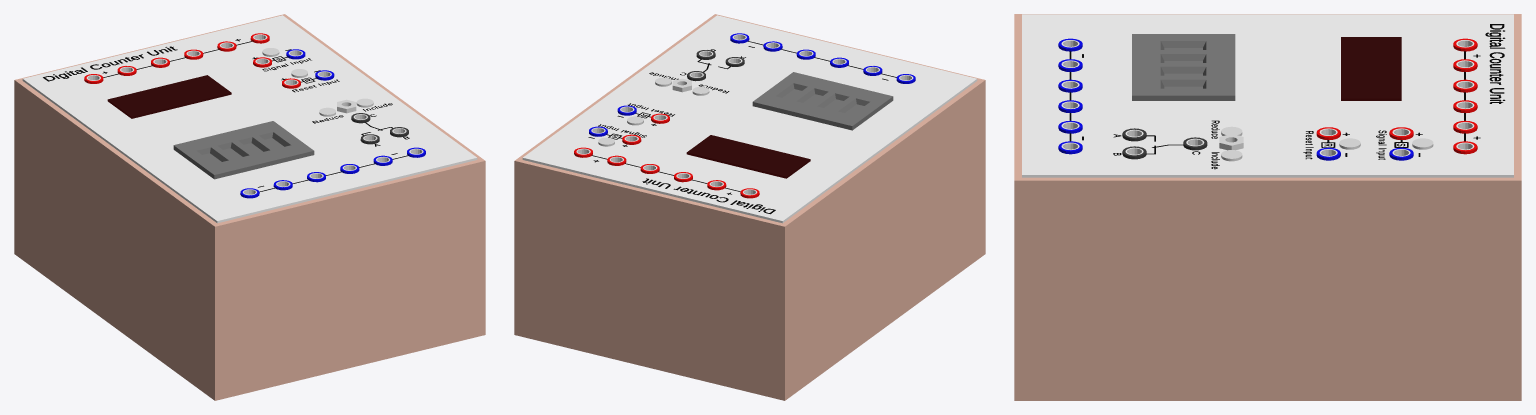
The model's file is counter-unit.glb.
3 views of the same model, side by side, from view 1: azimuth 30°, elevation 25°; view 2: azimuth 150°, elevation 25°; view 3: azimuth 270°, elevation 25° (orthographic). The views are drawn at different scales.
Visible parts, largest first — view 1: Digital-Counter-Unit_OP__go1045__mesh0, Digital-Counter-Unit_OP__go1045__mesh8, Digital-Counter-Unit_OP__go1045__mesh6, Digital-Counter-Unit_OP__go1045__mesh5, Digital-Counter-Unit_OP__go1045__mesh1, Digital-Counter-Unit_OP__go1045__mesh3, Digital-Counter-Unit_OP__go1045__mesh7, Digital-Counter-Unit_OP__go1045__mesh4, Digital-Counter-Unit_OP__go1045__mesh2; view 2: Digital-Counter-Unit_OP__go1045__mesh0, Digital-Counter-Unit_OP__go1045__mesh8, Digital-Counter-Unit_OP__go1045__mesh6, Digital-Counter-Unit_OP__go1045__mesh5, Digital-Counter-Unit_OP__go1045__mesh1, Digital-Counter-Unit_OP__go1045__mesh3, Digital-Counter-Unit_OP__go1045__mesh7, Digital-Counter-Unit_OP__go1045__mesh4, Digital-Counter-Unit_OP__go1045__mesh2; view 3: Digital-Counter-Unit_OP__go1045__mesh0, Digital-Counter-Unit_OP__go1045__mesh8, Digital-Counter-Unit_OP__go1045__mesh6, Digital-Counter-Unit_OP__go1045__mesh5, Digital-Counter-Unit_OP__go1045__mesh1, Digital-Counter-Unit_OP__go1045__mesh3, Digital-Counter-Unit_OP__go1045__mesh7, Digital-Counter-Unit_OP__go1045__mesh4, Digital-Counter-Unit_OP__go1045__mesh2.
Part boxes in pixels (x1,y1,x2,y2): Digital-Counter-Unit_OP__go1045__mesh0: (14,14,485,400); Digital-Counter-Unit_OP__go1045__mesh8: (22,15,477,223); Digital-Counter-Unit_OP__go1045__mesh6: (173,121,314,179); Digital-Counter-Unit_OP__go1045__mesh5: (107,75,231,118); Digital-Counter-Unit_OP__go1045__mesh1: (240,49,425,198); Digital-Counter-Unit_OP__go1045__mesh3: (84,33,300,88); Digital-Counter-Unit_OP__go1045__mesh7: (43,39,409,191); Digital-Counter-Unit_OP__go1045__mesh4: (262,48,373,116); Digital-Counter-Unit_OP__go1045__mesh2: (351,113,408,144); Digital-Counter-Unit_OP__go1045__mesh0: (514,14,985,400); Digital-Counter-Unit_OP__go1045__mesh8: (522,15,977,223); Digital-Counter-Unit_OP__go1045__mesh6: (752,72,893,130); Digital-Counter-Unit_OP__go1045__mesh5: (686,135,810,178); Digital-Counter-Unit_OP__go1045__mesh1: (589,33,915,136); Digital-Counter-Unit_OP__go1045__mesh3: (574,113,759,198); Digital-Counter-Unit_OP__go1045__mesh7: (588,41,896,214); Digital-Counter-Unit_OP__go1045__mesh4: (598,77,709,146); Digital-Counter-Unit_OP__go1045__mesh2: (687,50,744,81); Digital-Counter-Unit_OP__go1045__mesh0: (1014,14,1521,400); Digital-Counter-Unit_OP__go1045__mesh8: (1022,14,1513,177); Digital-Counter-Unit_OP__go1045__mesh6: (1132,34,1235,100); Digital-Counter-Unit_OP__go1045__mesh5: (1341,37,1401,100); Digital-Counter-Unit_OP__go1045__mesh1: (1058,38,1413,160); Digital-Counter-Unit_OP__go1045__mesh3: (1316,38,1477,154); Digital-Counter-Unit_OP__go1045__mesh7: (1069,24,1505,169); Digital-Counter-Unit_OP__go1045__mesh4: (1219,126,1433,161); Digital-Counter-Unit_OP__go1045__mesh2: (1122,128,1207,159).
Size of the model in its own units: 0.13 by 0.083 by 0.167.
9 materials, 5 textured.
